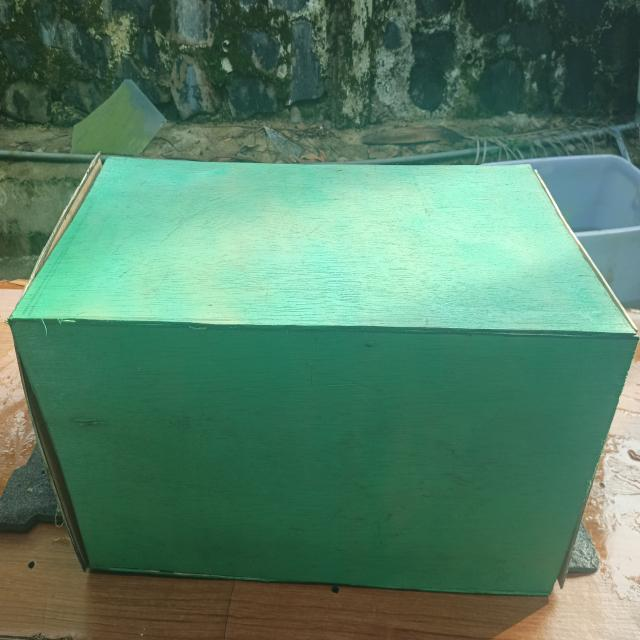green_box: (13, 110, 640, 640)
